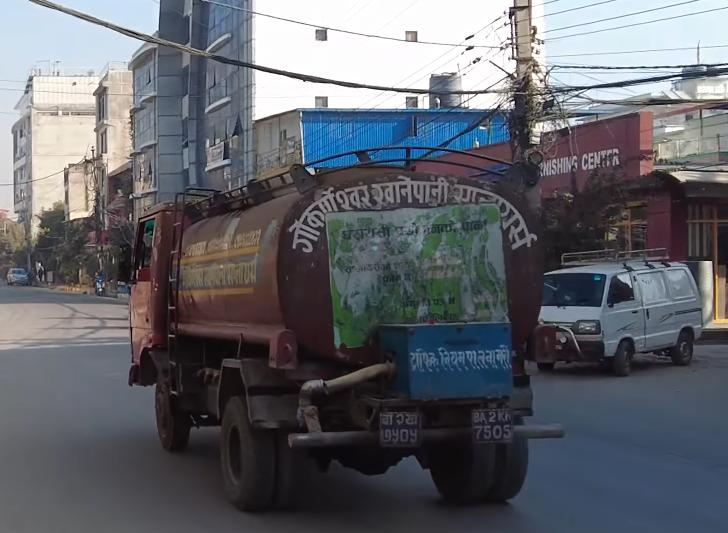mini_truck: (115, 138, 562, 514)
van: (545, 231, 710, 382)
